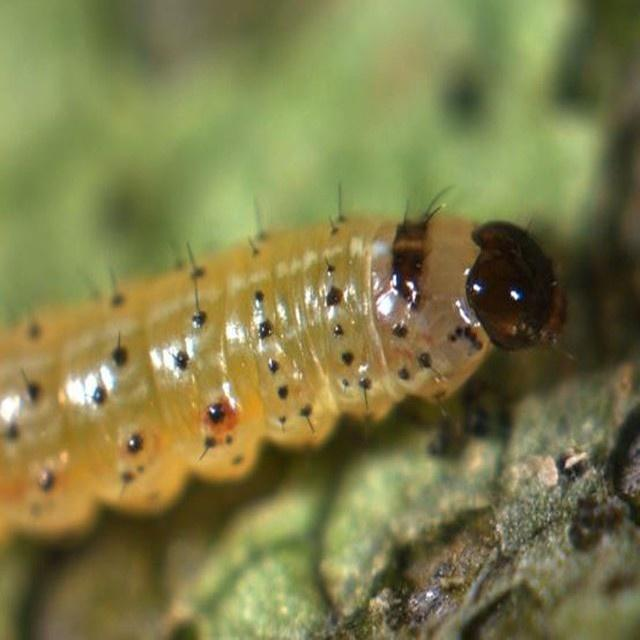gusano_cogollero: (0, 200, 576, 560)
